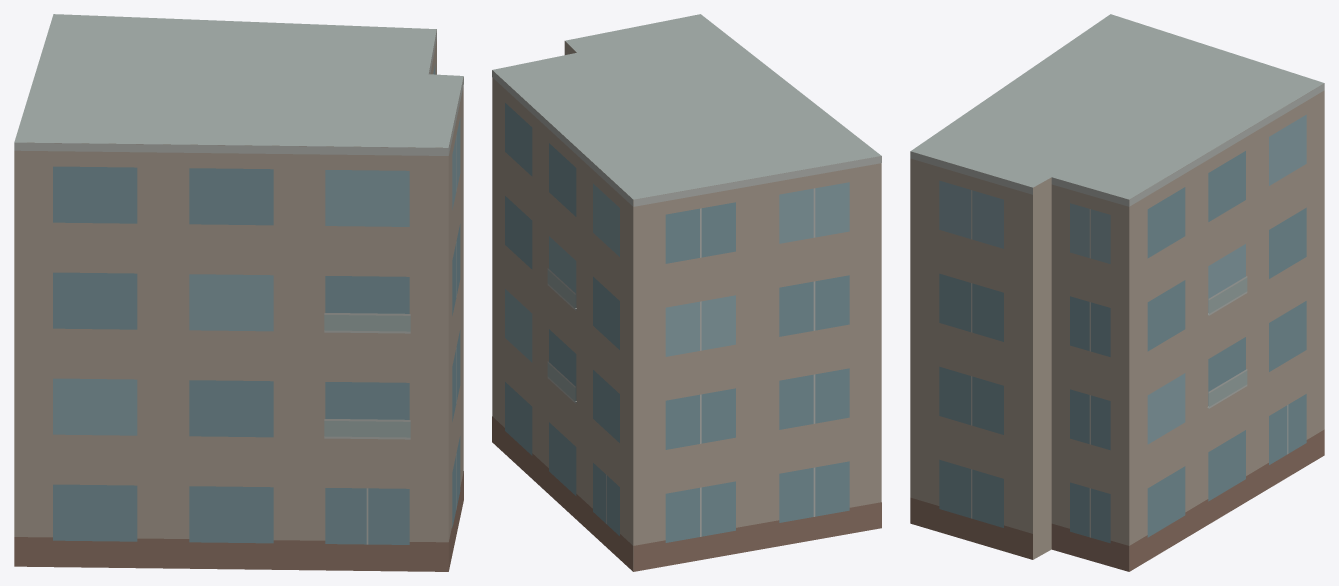
Rendered from survey-upis-32959997.glb.
3 views of the same model, side by side, from view 1: azimuth 30°, elevation 25°; view 2: azimuth 150°, elevation 25°; view 3: azimuth 270°, elevation 25° (orthographic). The views are drawn at different scales.
Parts seen in each view (by area): view 1: survey-upis-32959997.tmp; view 2: survey-upis-32959997.tmp; view 3: survey-upis-32959997.tmp.
Boxes of the visible parts, <box> form: survey-upis-32959997.tmp: <box>14,14,463,571</box>; survey-upis-32959997.tmp: <box>492,14,881,571</box>; survey-upis-32959997.tmp: <box>910,14,1324,571</box>.
Bounding box in the file's own units: 13.48 × 12.6 × 12.72.
